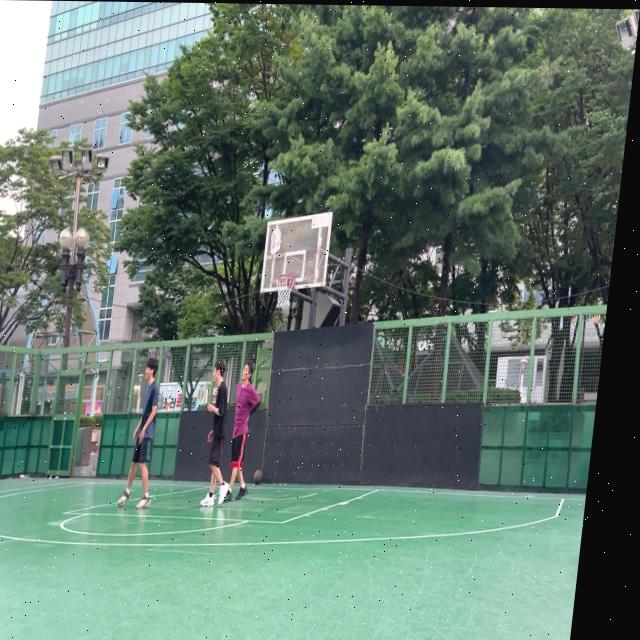basketball: (252, 469, 264, 485)
hoop: (273, 274, 296, 311)
